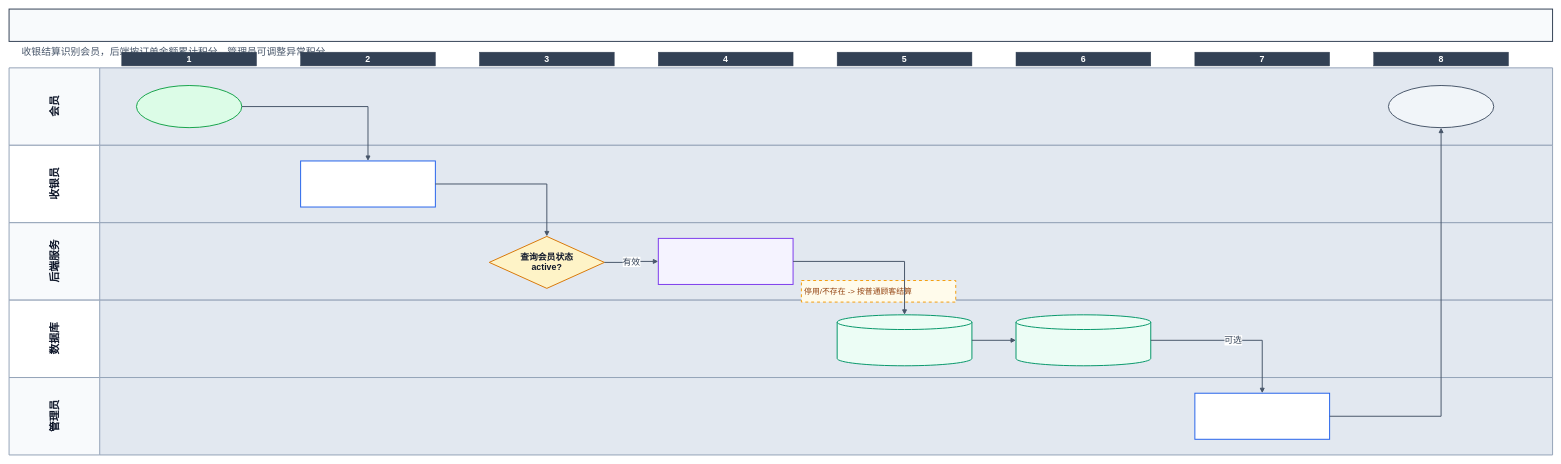
Image size: 1561x464. Some labels were removed from this diagram. The centre of each missing label's shape, as x and y in pixels:
会员积分泳道图: point (780, 25)
保存销售关联 sales / sale_items: point (1083, 340)
出示手机号/会员号: point (189, 106)
完成结算 计算积分增量: point (725, 261)
收银台录入会员 绑定本次交易: point (368, 183)
更新会员积分 members.points: point (904, 340)
积分到账 会员权益更新: point (1441, 106)
积分异常调整 /members points: point (1262, 416)
